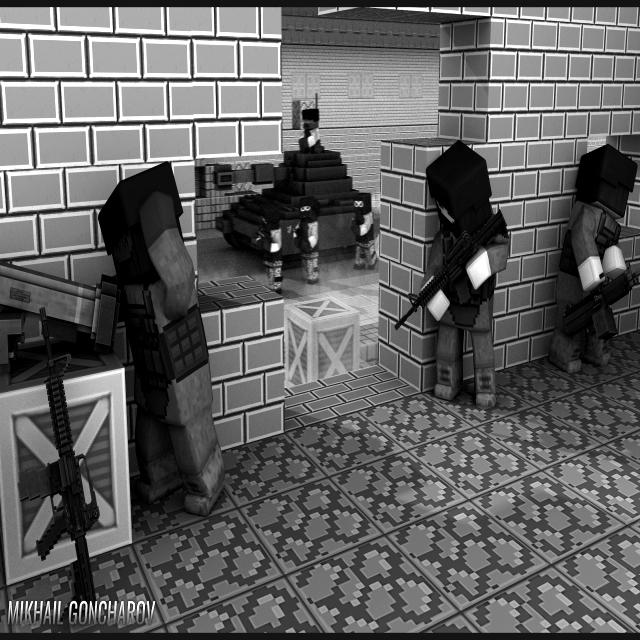Head: (94, 162, 188, 282), (423, 139, 498, 236), (576, 140, 636, 219), (258, 204, 283, 233), (298, 194, 320, 219), (354, 193, 371, 214), (302, 111, 319, 130)
Player: (94, 159, 230, 515), (393, 138, 511, 412), (546, 138, 640, 379), (249, 205, 285, 286), (294, 193, 324, 285), (348, 193, 378, 271), (298, 105, 320, 155)
